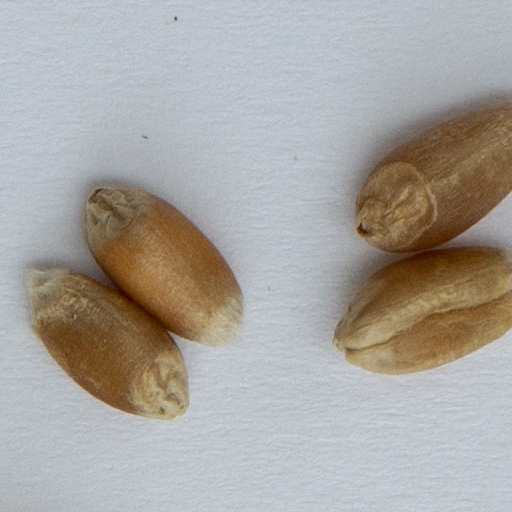Wheat-grain-poly: (81, 180, 247, 346), (21, 257, 187, 419), (355, 98, 511, 252), (332, 244, 511, 375)
